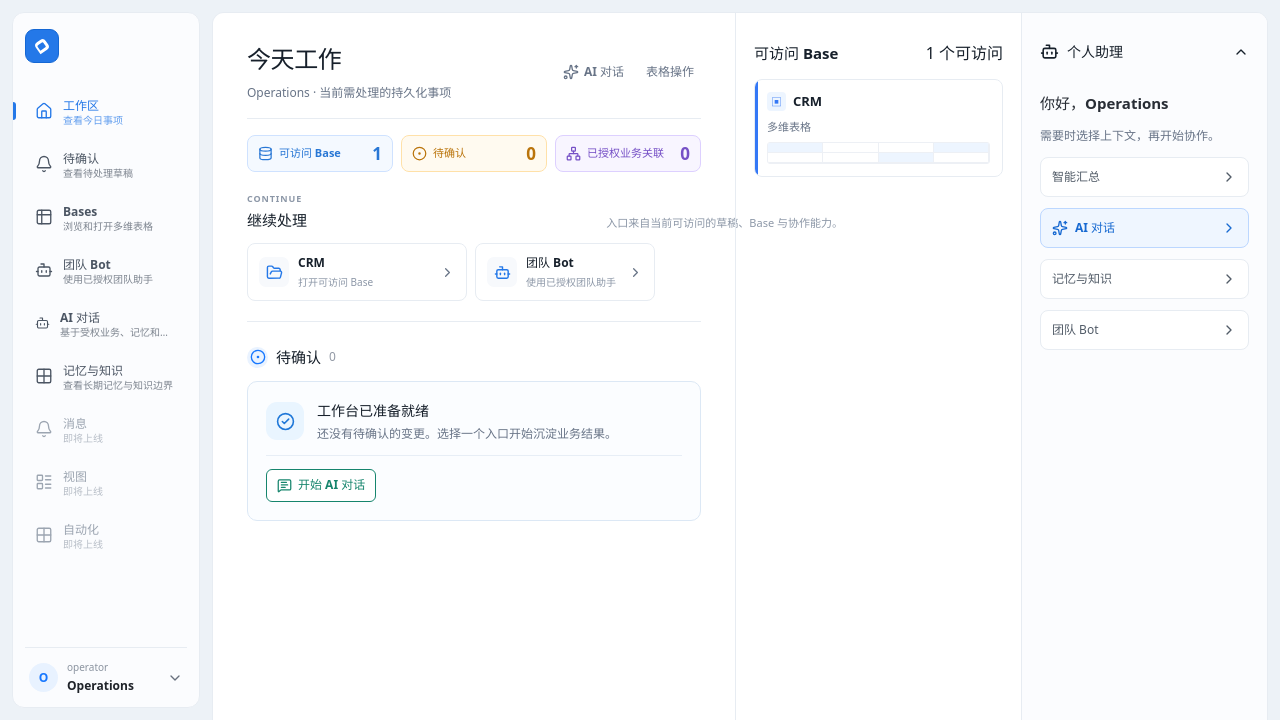
Test: switches an authorized Base table through its server-returned saved view
The width and height of the screenshot is (1280, 720).
Click the link "▣ CRM 多维表格".
click(878, 128)  # box [754,79,1003,177]
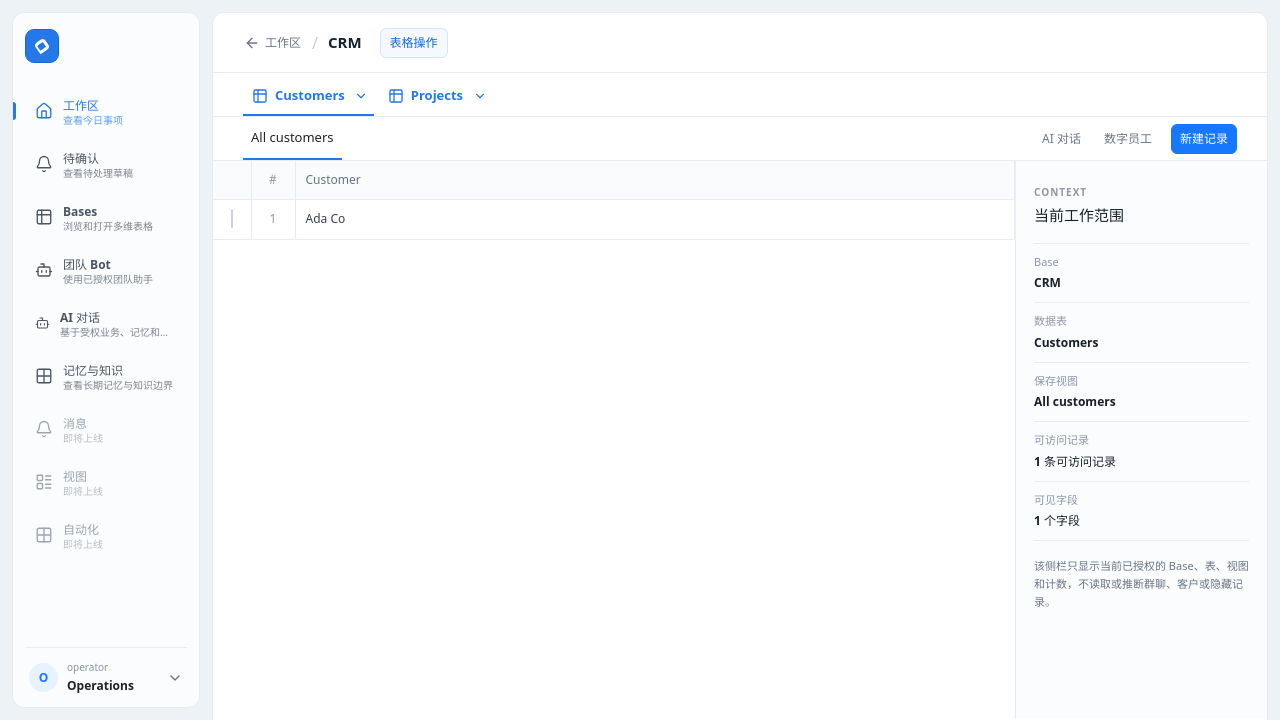
Expected: the cell "Ada Co" is shown, [295,199,1014,239]
Click the tab "Projects".
click(423, 96)  # box [379,78,467,114]
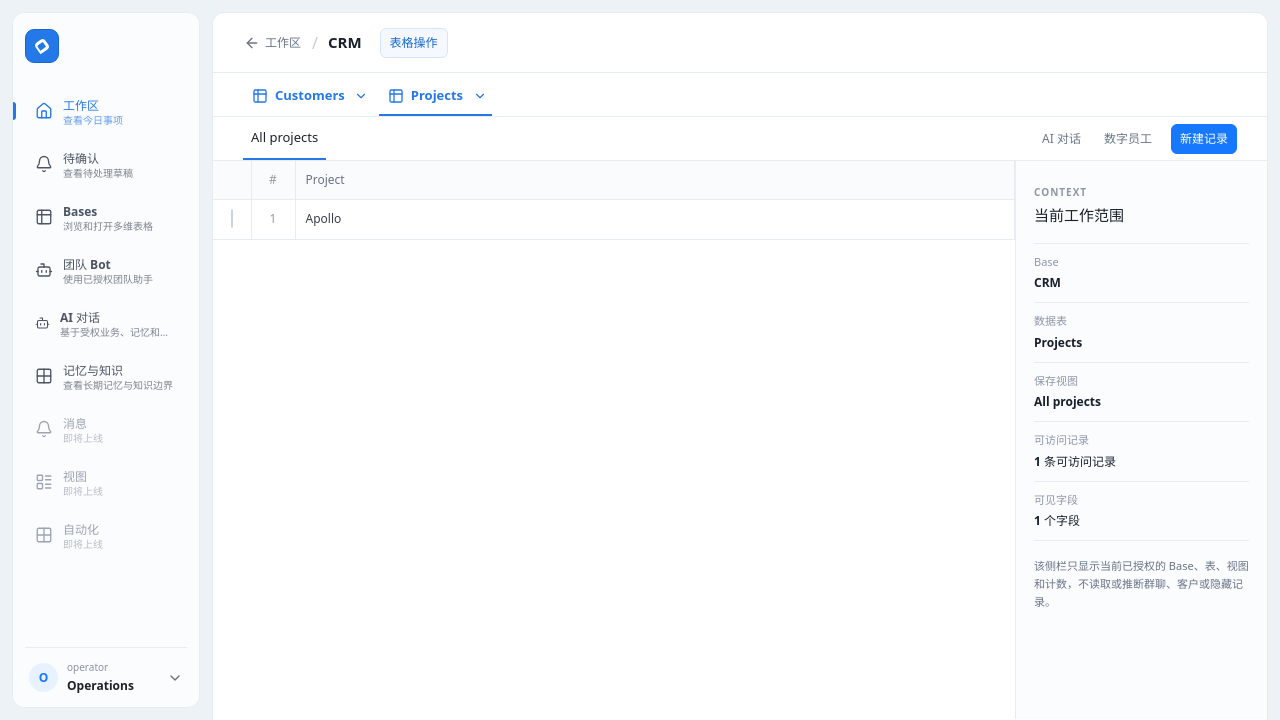
Expected: the cell "Apollo" is shown, [295,199,1014,239]
Expected: the cell "Ada Co" is gone
